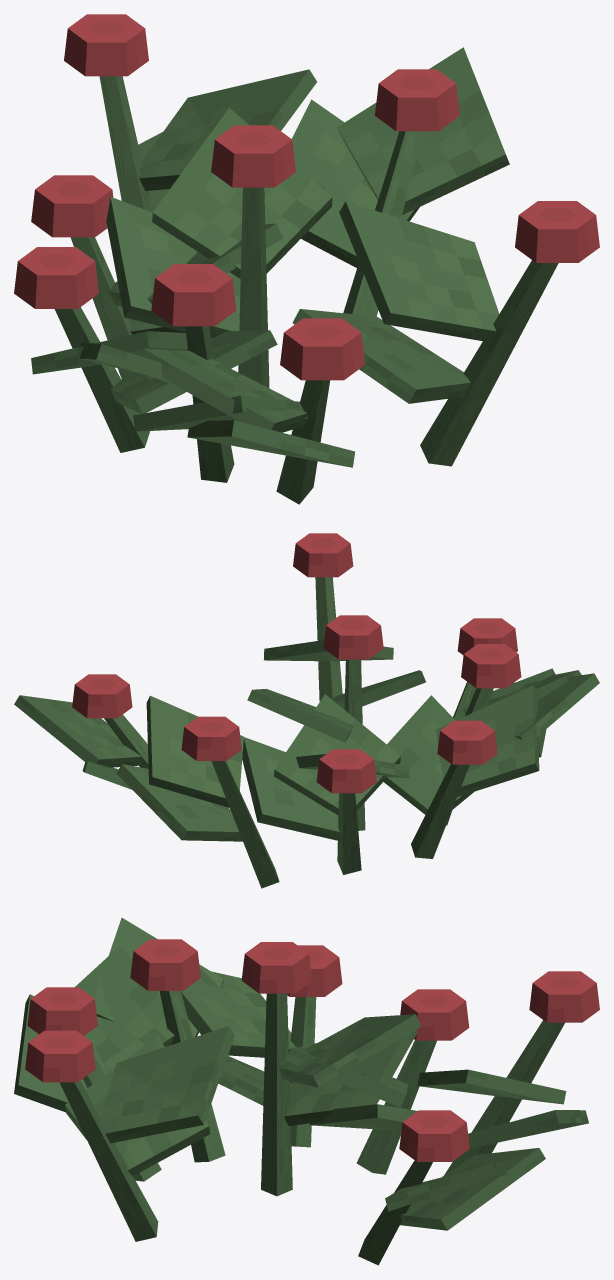
Rendered from f_wintergreen.glb.
The picture shows the model from 3 angles, top to bottom: view 1: azimuth 30°, elevation 25°; view 2: azimuth 150°, elevation 25°; view 3: azimuth 270°, elevation 25°; orthographic projection. The views are drawn at different scales.
Parts seen in each view (by area): view 1: block_pointed-leaf (×14), block_stem-3, block_flower-head-2, block_flower-head-5, block_flower-head-1, block_flower-head-0, block_flower-head-6, block_flower-head-3, block_flower-head-4, block_stem-0, block_flower-head-7, block_stem-4 (+5 smaller); view 2: block_pointed-leaf (×15), block_stem-2, block_flower-head-5, block_flower-head-0, block_flower-head-4, block_flower-head-1, block_flower-head-2, block_flower-head-3, block_flower-head-7, block_stem-4, block_stem-3, block_stem-7 (+3 smaller); view 3: block_pointed-leaf (×15), block_stem-0, block_stem-3, block_flower-head-3, block_flower-head-0, block_flower-head-2, block_flower-head-1, block_flower-head-5, block_stem-2, block_flower-head-6, block_flower-head-7, block_stem-7 (+5 smaller).
Boxes of the visible parts, x1=… form: block_pointed-leaf (×14): x1=31, y1=47, x2=509, y2=467; block_stem-3: x1=420, y1=260, x2=558, y2=466; block_flower-head-2: x1=64, y1=14, x2=148, y2=76; block_flower-head-5: x1=375, y1=69, x2=459, y2=131; block_flower-head-1: x1=151, y1=264, x2=236, y2=326; block_flower-head-0: x1=211, y1=125, x2=295, y2=187; block_flower-head-6: x1=280, y1=318, x2=364, y2=380; block_flower-head-3: x1=515, y1=201, x2=599, y2=262; block_flower-head-4: x1=14, y1=247, x2=98, y2=308; block_stem-0: x1=238, y1=187, x2=269, y2=387; block_flower-head-7: x1=31, y1=175, x2=113, y2=237; block_stem-4: x1=54, y1=307, x2=149, y2=452; block_pointed-leaf (×15): x1=14, y1=640, x2=599, y2=841; block_stem-2: x1=211, y1=761, x2=279, y2=888; block_flower-head-5: x1=72, y1=674, x2=132, y2=718; block_flower-head-0: x1=323, y1=615, x2=383, y2=659; block_flower-head-4: x1=437, y1=720, x2=497, y2=764; block_flower-head-1: x1=461, y1=644, x2=521, y2=688; block_flower-head-2: x1=181, y1=716, x2=241, y2=760; block_flower-head-3: x1=293, y1=533, x2=353, y2=577; block_flower-head-7: x1=316, y1=749, x2=376, y2=793; block_stem-4: x1=411, y1=764, x2=469, y2=858; block_stem-3: x1=315, y1=577, x2=342, y2=701; block_stem-7: x1=337, y1=793, x2=361, y2=874; block_pointed-leaf (×15): x1=14, y1=918, x2=588, y2=1230; block_stem-0: x1=261, y1=993, x2=292, y2=1196; block_stem-3: x1=59, y1=1081, x2=158, y2=1241; block_flower-head-3: x1=25, y1=1030, x2=95, y2=1082; block_flower-head-0: x1=241, y1=942, x2=311, y2=993; block_flower-head-2: x1=529, y1=971, x2=599, y2=1022; block_flower-head-1: x1=130, y1=939, x2=200, y2=990; block_flower-head-5: x1=399, y1=1110, x2=469, y2=1161; block_stem-2: x1=444, y1=1020, x2=564, y2=1175; block_flower-head-6: x1=27, y1=987, x2=97, y2=1035; block_flower-head-7: x1=400, y1=989, x2=469, y2=1040; block_stem-7: x1=356, y1=1040, x2=436, y2=1174.
Size of the model in its own units: 0.5033 by 0.2366 by 0.5146.
Materials: 1 (1 with a texture image).
